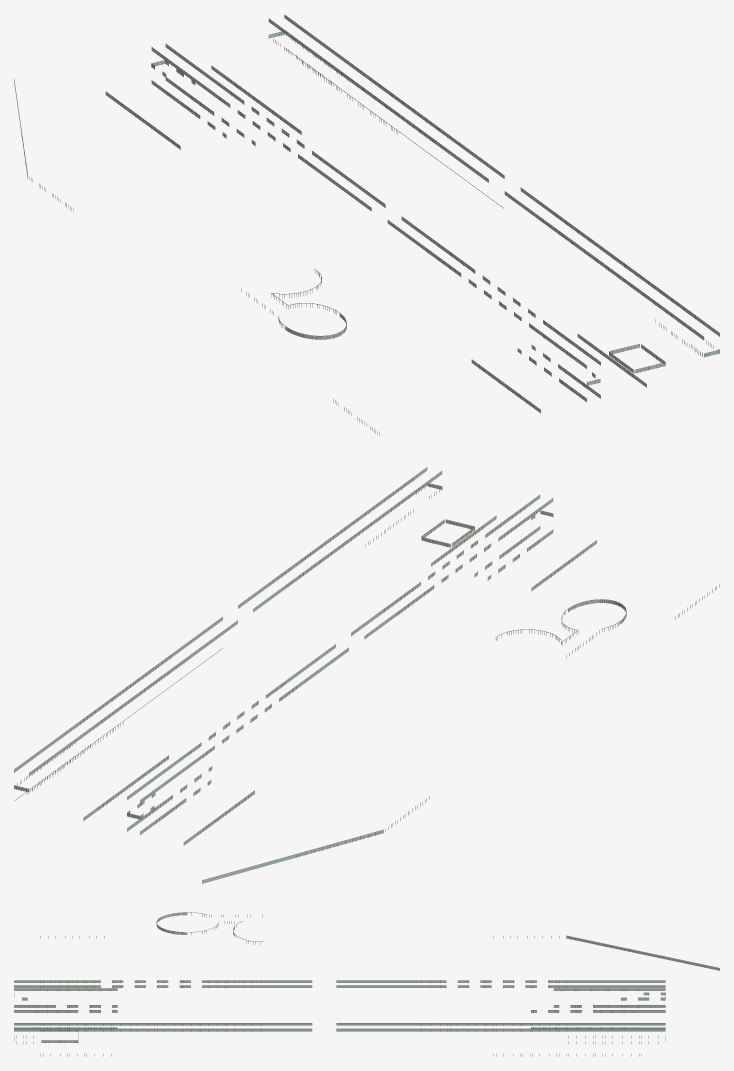
The model's file is TIDAL_LOW_NEST_D15_frontage_r001.glb.
The picture shows the model from 3 angles, top to bottom: view 1: azimuth 30°, elevation 25°; view 2: azimuth 150°, elevation 25°; view 3: azimuth 270°, elevation 25°; orthographic projection. The views are drawn at different scales.
Visible parts, largest first — view 1: TG_Batch_184, TG_Batch_189, TG_Batch_157, TG_Batch_148, TG_Batch_188, TG_Batch_180, TG_Batch_154, TG_Batch_146; view 2: TG_Batch_184, TG_Batch_189, TG_Batch_148, TG_Batch_157, TG_Batch_188, TG_Batch_180, TG_Batch_146, TG_Batch_154; view 3: TG_Batch_184, TG_Batch_189, TG_Batch_148, TG_Batch_180, TG_Batch_188, TG_Batch_157, TG_Batch_146, TG_Batch_154, TG_Batch_186.
Part boxes in pixels (x1=…): TG_Batch_184: x1=151, y1=15, x2=504, y2=211; TG_Batch_189: x1=285, y1=188, x2=719, y2=368; TG_Batch_157: x1=471, y1=334, x2=665, y2=413; TG_Batch_148: x1=14, y1=66, x2=301, y2=175; TG_Batch_188: x1=285, y1=187, x2=719, y2=365; TG_Batch_180: x1=152, y1=14, x2=504, y2=207; TG_Batch_154: x1=333, y1=319, x2=702, y2=435; TG_Batch_146: x1=14, y1=61, x2=349, y2=174; TG_Batch_184: x1=14, y1=617, x2=348, y2=803; TG_Batch_189: x1=238, y1=468, x2=626, y2=639; TG_Batch_148: x1=83, y1=756, x2=383, y2=883; TG_Batch_157: x1=421, y1=516, x2=596, y2=591; TG_Batch_188: x1=238, y1=467, x2=626, y2=636; TG_Batch_180: x1=14, y1=617, x2=348, y2=800; TG_Batch_146: x1=27, y1=755, x2=383, y2=880; TG_Batch_154: x1=365, y1=509, x2=719, y2=619; TG_Batch_184: x1=336, y1=980, x2=665, y2=1031; TG_Batch_189: x1=14, y1=912, x2=312, y2=1031; TG_Batch_148: x1=531, y1=936, x2=719, y2=1028; TG_Batch_180: x1=336, y1=980, x2=665, y2=1031; TG_Batch_188: x1=14, y1=912, x2=311, y2=1031; TG_Batch_157: x1=14, y1=988, x2=117, y2=1042; TG_Batch_146: x1=531, y1=935, x2=719, y2=1056; TG_Batch_154: x1=14, y1=936, x2=117, y2=1056; TG_Batch_186: x1=187, y1=912, x2=263, y2=1031.
Bounding box in the file's own units: 91.72 × 10.14 × 232.
Materials: 2 (1 with a texture image).
